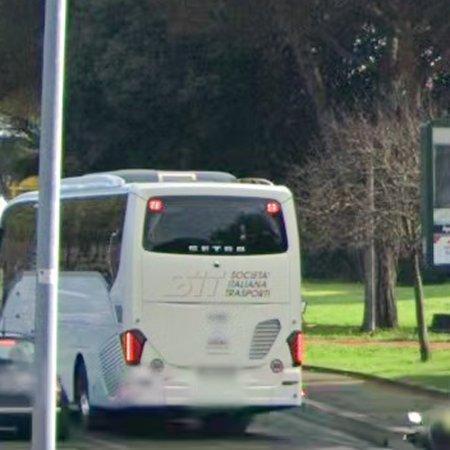buses: (58, 170, 303, 430), (0, 193, 39, 352)
